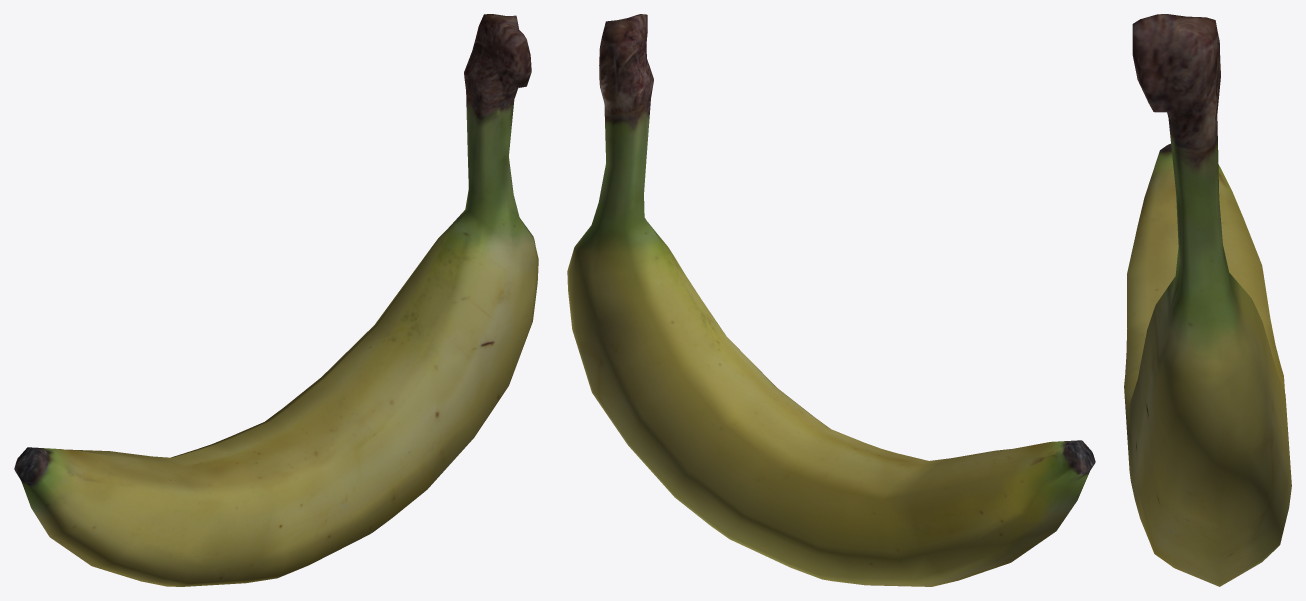
File: SM_Apple_Banana_01a.fbx
3 views of the same model, side by side, from view 1: azimuth 30°, elevation 25°; view 2: azimuth 150°, elevation 25°; view 3: azimuth 270°, elevation 25° (orthographic). The views are drawn at different scales.
Visible parts, largest first — view 1: SM_Apple_Banana_01a_LOD0; view 2: SM_Apple_Banana_01a_LOD0; view 3: SM_Apple_Banana_01a_LOD0.
Boxes of the visible parts, x1,y1,x2,y2 form: SM_Apple_Banana_01a_LOD0: (14, 14, 538, 586); SM_Apple_Banana_01a_LOD0: (567, 14, 1095, 586); SM_Apple_Banana_01a_LOD0: (1124, 14, 1291, 586).
Bounding box in the file's own units: 22.96 × 4.76 × 21.22.
